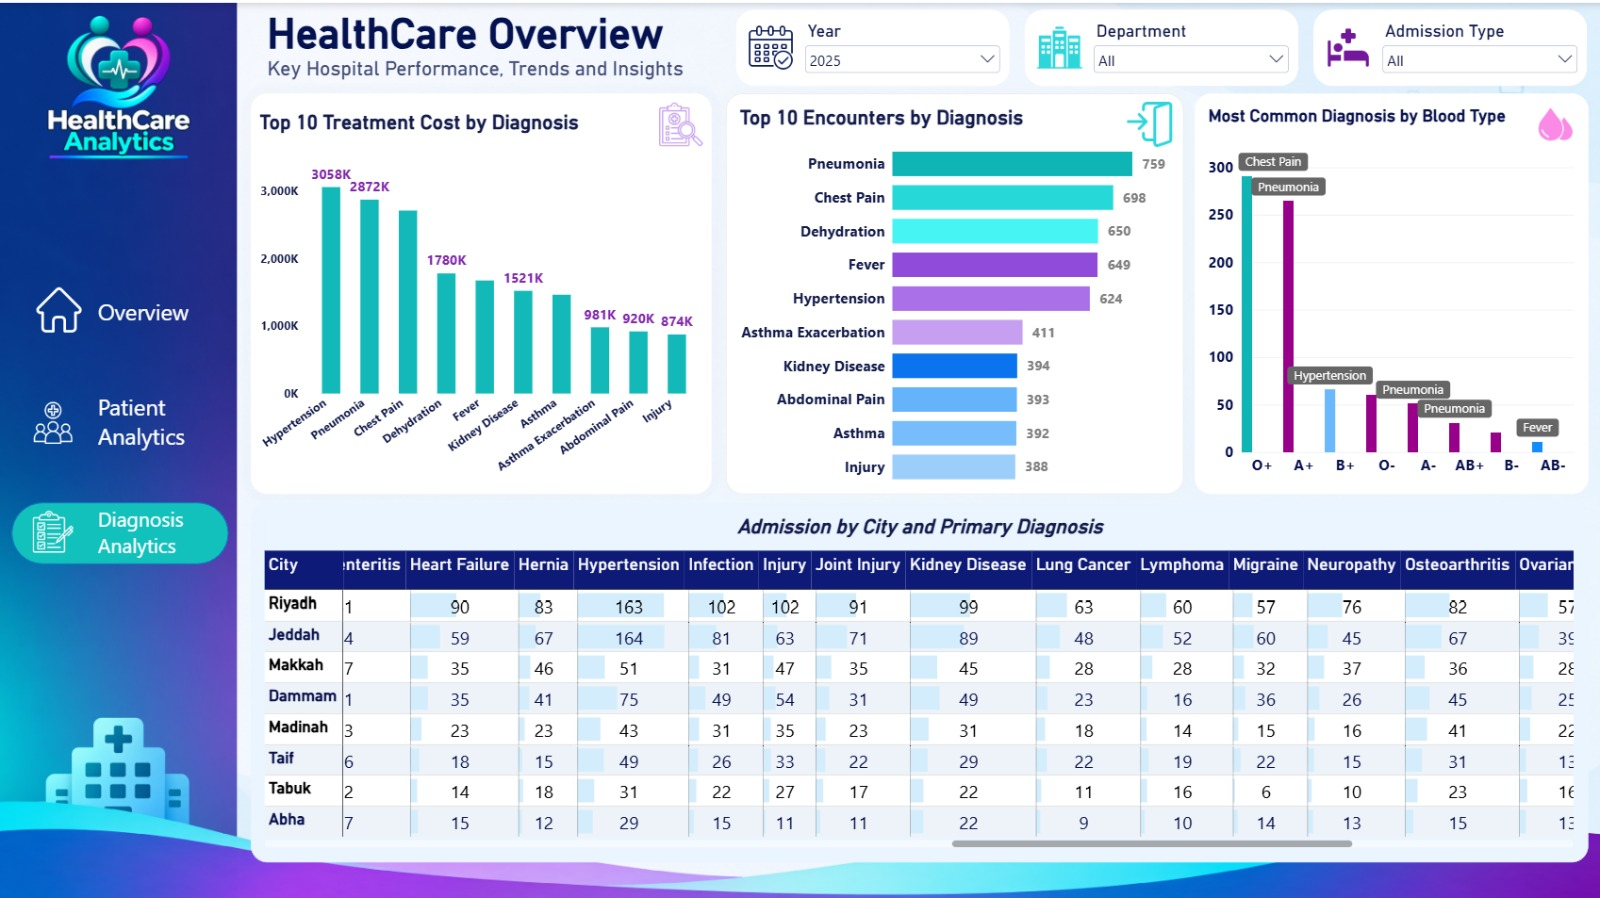

This screenshot's page, from the dashboard's own definition file:
{"tool":"powerbi","page":{"name":"Diagnosis Analytics","canvas":[1920,1080],"ordinal":2},"visuals":[{"type":"textbox","box":[320,8,516,100],"z":0},{"type":"shape","box":[14,598,260,74],"z":0,"group":"g7"},{"type":"group","id":"g1","title":"Group 4","box":[300,108,552,480],"z":1000},{"type":"image","box":[44,330,54,76],"z":1000,"group":"g11"},{"type":"pivotTable","title":"Admission by City and Primary Diagnosis","fields":{"Columns":["Dim_Diagnosis.Primary_Diagnosis"],"Rows":["Dim_Patients.City"],"Values":["AA_Measures.Admissions"]},"box":[300,598,1602,430],"z":1000,"group":"g2"},{"type":"clusteredColumnChart","title":"Top 10 Treatment Cost by Diagnosis","fields":{"Category":["Dim_Diagnosis.Primary_Diagnosis"],"Y":["AA_Measures.Total Treatment Cost"]},"box":[300,108,552,480],"z":2000,"group":"g1"},{"type":"pageNavigator","box":[18,304,256,398],"z":2000,"group":"g11"},{"type":"image","box":[36,478,56,50],"z":2000,"group":"g7"},{"type":"group","id":"g2","title":"Group 7","box":[300,598,1602,430],"z":2000},{"type":"group","id":"g3","title":"Group 5","box":[882,8,328,92],"z":3000},{"type":"image","box":[36,608,56,50],"z":3000,"group":"g7"},{"type":"group","id":"g4","title":"Group 5","box":[1574,8,328,92],"z":4000},{"type":"clusteredBarChart","title":"Top 10 Encounters by Diagnosis","fields":{"Category":["Dim_Diagnosis.Primary_Diagnosis"],"Y":["AA_Measures.Admissions"]},"box":[870,108,548,480],"z":5000},{"type":"group","id":"g5","title":"Group 5","box":[1228,8,328,92],"z":6000},{"type":"clusteredColumnChart","title":"Most Common Diagnosis by Blood Type","fields":{"Category":["Dim_Patients.Blood_Type"],"Series":["Dim_Diagnosis.Primary_Diagnosis"],"Y":["AA_Measures.Admissions"]},"box":[1430,108,472,480],"z":7000,"group":"g6"},{"type":"image","box":[1350,118,54,54],"z":7000},{"type":"group","id":"g6","title":"Group 1","box":[1430,108,472,480],"z":8000},{"type":"group","id":"g7","title":"Group 9","box":[14,304,260,398],"z":8001},{"type":"shape","box":[882,8,328,92],"z":10500,"group":"g8"},{"type":"shape","box":[1228,8,328,92],"z":10500,"group":"g9"},{"type":"shape","box":[1574,8,328,92],"z":10500,"group":"g10"},{"type":"group","id":"g8","title":"Group 3","box":[882,8,328,92],"z":11000,"group":"g3"},{"type":"group","id":"g9","title":"Group 3","box":[1228,8,328,92],"z":11000,"group":"g5"},{"type":"group","id":"g10","title":"Group 3","box":[1574,8,328,92],"z":11000,"group":"g4"},{"type":"slicer","fields":{"Values":["Calendar.Date.Variation.Date Hierarchy.Year"]},"box":[939.1,15.8,269.1,81.3],"z":11000,"group":"g8"},{"type":"slicer","fields":{"Values":["Dim_Department.Department"]},"box":[1285.1,15.8,269.1,81.3],"z":11000,"group":"g9"},{"type":"slicer","fields":{"Values":["Fact_Encounter.Admission_Type"]},"box":[1631.1,15.8,269.1,81.3],"z":11000,"group":"g10"},{"type":"image","box":[896,26,56,56],"z":11500,"group":"g3"},{"type":"image","box":[1242,26,56,56],"z":11500,"group":"g5"},{"type":"image","box":[1588,26,56,56],"z":11500,"group":"g4"},{"type":"group","id":"g11","title":"Group 8","box":[18,304,256,398],"z":16000,"group":"g7"},{"type":"image","box":[788,118,54,54],"z":19000,"group":"g1"},{"type":"image","box":[1836,118,54,54],"z":19000,"group":"g6"}]}

Visuals, with their boxes on the page's 1920x1080 design canvas (x1, y1, x2, y2). These are canvas units, not pixel positions in the 1600x898 screenshot, which may show the page scaled, cropped or inside an application window:
textbox: x1=320, y1=8, x2=836, y2=108
shape: x1=14, y1=598, x2=274, y2=672
"Group 4" group: x1=300, y1=108, x2=852, y2=588
image: x1=44, y1=330, x2=98, y2=406
"Admission by City and Primary Diagnosis" pivotTable: x1=300, y1=598, x2=1902, y2=1028
"Top 10 Treatment Cost by Diagnosis" clusteredColumnChart: x1=300, y1=108, x2=852, y2=588
pageNavigator: x1=18, y1=304, x2=274, y2=702
image: x1=36, y1=478, x2=92, y2=528
"Group 7" group: x1=300, y1=598, x2=1902, y2=1028
"Group 5" group: x1=882, y1=8, x2=1210, y2=100
image: x1=36, y1=608, x2=92, y2=658
"Group 5" group: x1=1574, y1=8, x2=1902, y2=100
"Top 10 Encounters by Diagnosis" clusteredBarChart: x1=870, y1=108, x2=1418, y2=588
"Group 5" group: x1=1228, y1=8, x2=1556, y2=100
"Most Common Diagnosis by Blood Type" clusteredColumnChart: x1=1430, y1=108, x2=1902, y2=588
image: x1=1350, y1=118, x2=1404, y2=172
"Group 1" group: x1=1430, y1=108, x2=1902, y2=588
"Group 9" group: x1=14, y1=304, x2=274, y2=702
shape: x1=882, y1=8, x2=1210, y2=100
shape: x1=1228, y1=8, x2=1556, y2=100
shape: x1=1574, y1=8, x2=1902, y2=100
"Group 3" group: x1=882, y1=8, x2=1210, y2=100
"Group 3" group: x1=1228, y1=8, x2=1556, y2=100
"Group 3" group: x1=1574, y1=8, x2=1902, y2=100
slicer - Calendar.Date.Variation.Date Hierarchy.Year: x1=939, y1=16, x2=1208, y2=97
slicer - Dim_Department.Department: x1=1285, y1=16, x2=1554, y2=97
slicer - Fact_Encounter.Admission_Type: x1=1631, y1=16, x2=1900, y2=97
image: x1=896, y1=26, x2=952, y2=82
image: x1=1242, y1=26, x2=1298, y2=82
image: x1=1588, y1=26, x2=1644, y2=82
"Group 8" group: x1=18, y1=304, x2=274, y2=702
image: x1=788, y1=118, x2=842, y2=172
image: x1=1836, y1=118, x2=1890, y2=172
